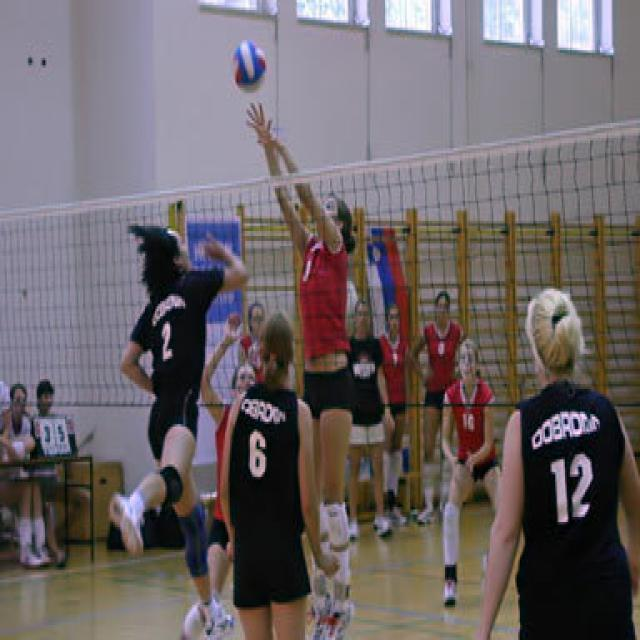volleyball: (231, 41, 268, 94)
